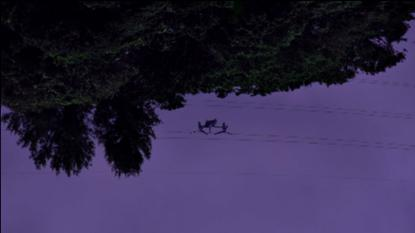Tornado: (190, 118, 233, 134)
